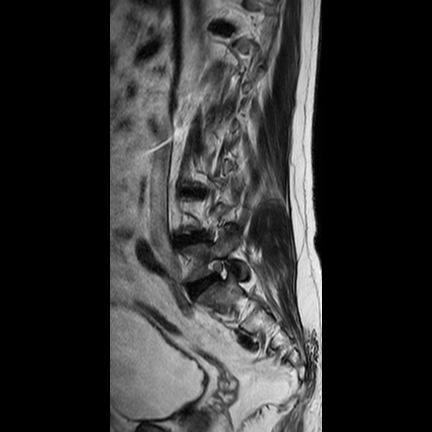RFS1: (203, 252, 236, 287)
